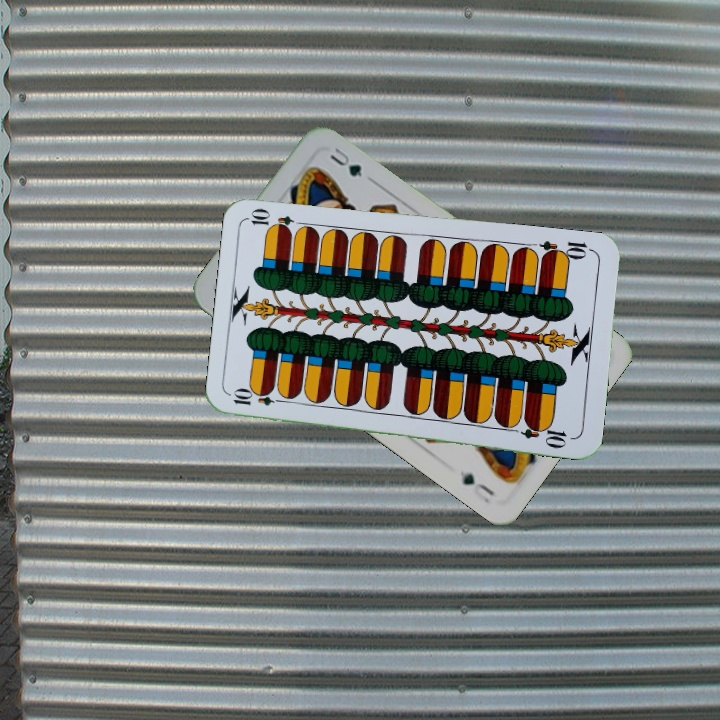E10: (537, 237, 596, 263), (229, 388, 289, 408)
